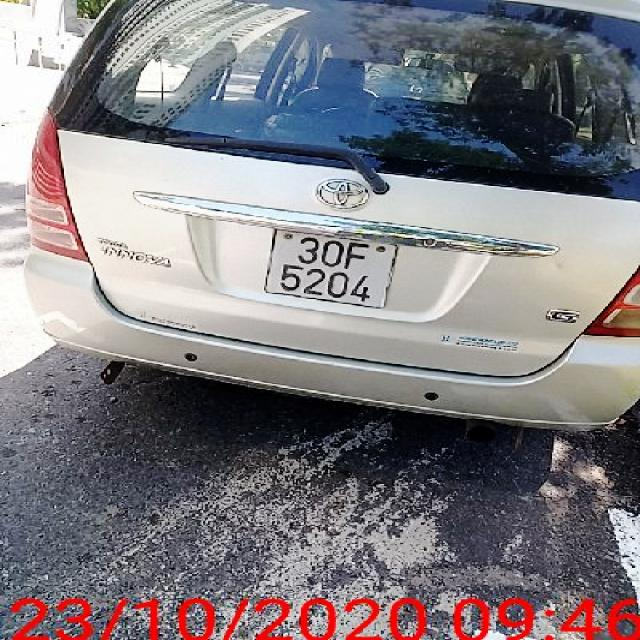license_plate: (266, 229, 399, 311)
